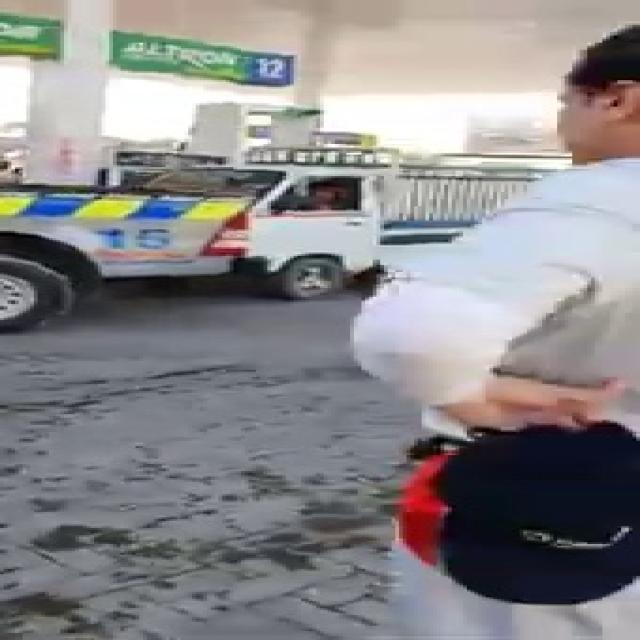police: (0, 176, 282, 337)
